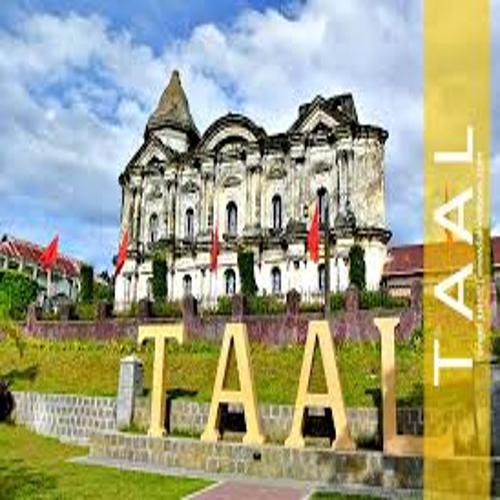Taal Basilica Church: (106, 54, 395, 314)
